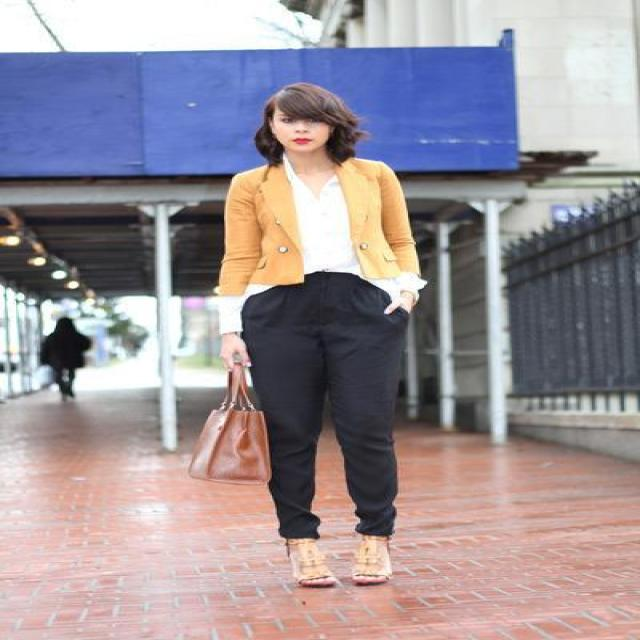bag: (192, 401, 270, 482)
jacket: (211, 158, 418, 293)
pants: (240, 271, 402, 545)
shirt: (211, 155, 426, 319)
shoe: (270, 536, 390, 591)
